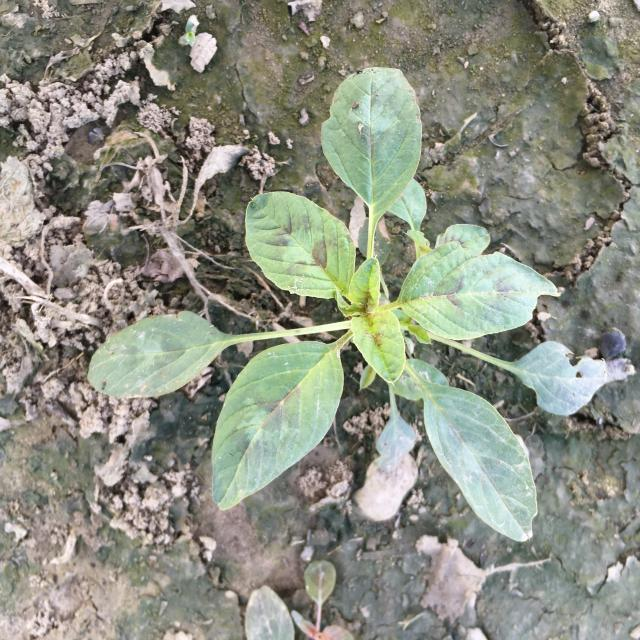PalmerAmaranth: (87, 66, 606, 542)
